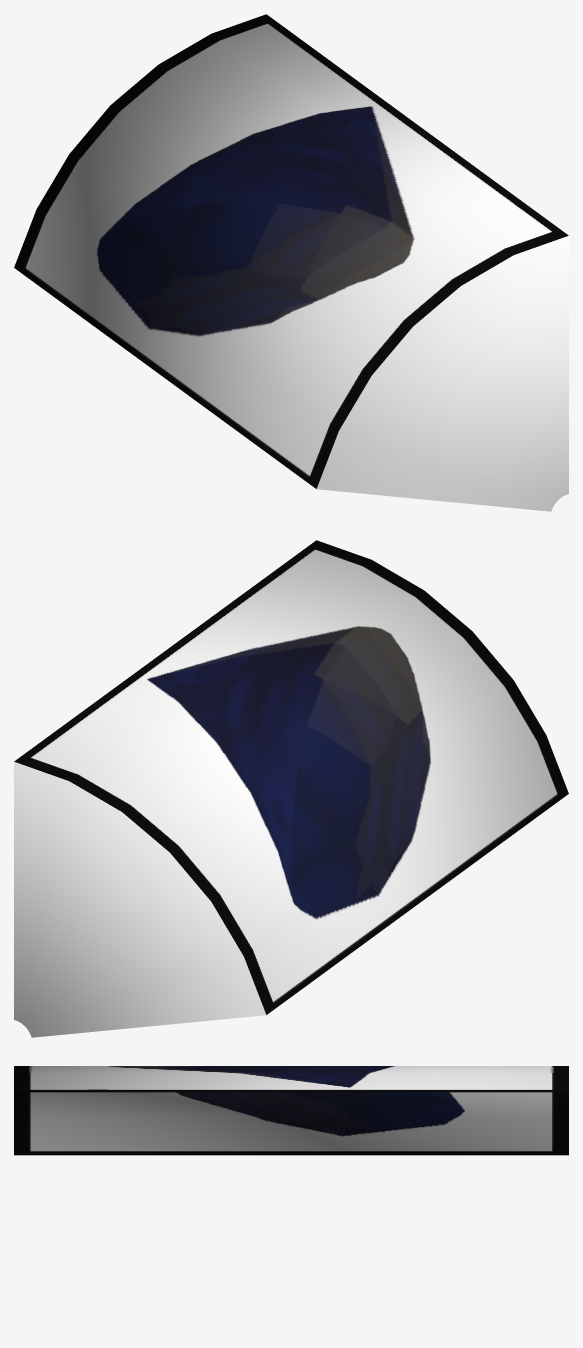
Rendered from roulette02.fbx.
3 views of the same model, one above another, from view 1: azimuth 30°, elevation 25°; view 2: azimuth 150°, elevation 25°; view 3: azimuth 270°, elevation 25° (orthographic). The views are drawn at different scales.
Visible parts, largest first — view 1: roulette02; view 2: roulette02; view 3: roulette02.
Part boxes in pixels (x1,y1,x2,y2): roulette02: [14, 14, 568, 511]; roulette02: [14, 540, 568, 1037]; roulette02: [14, 1066, 568, 1155].
Size of the model in its own units: 64.6 by 66.46 by 134.
1 material, 1 textured.
